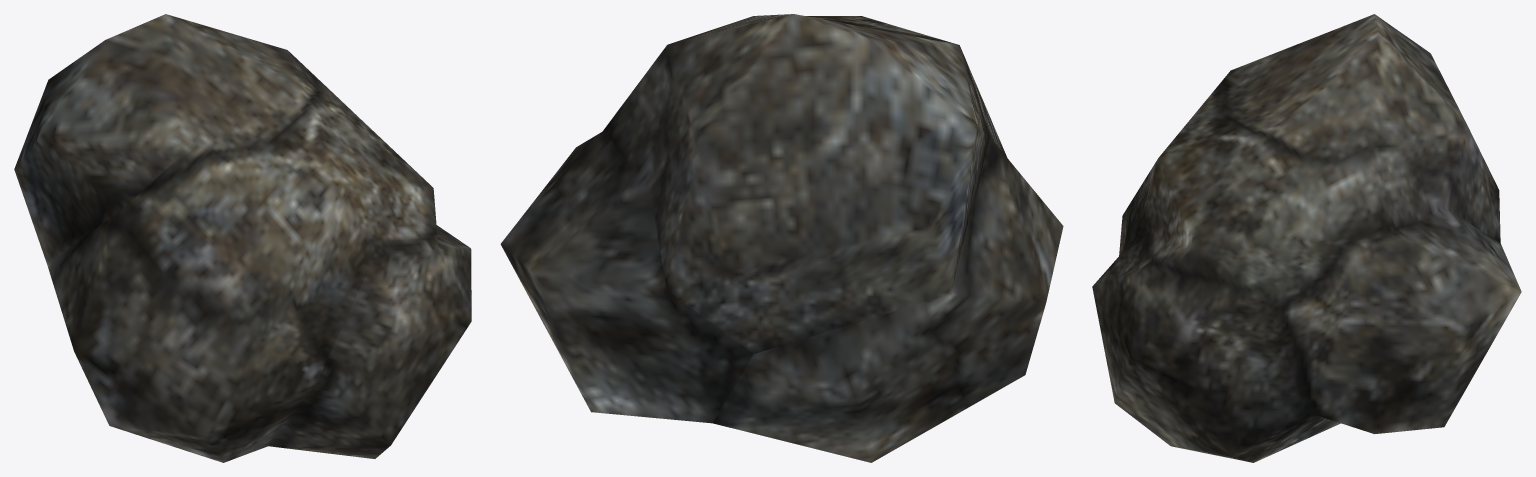
File: Rock4A_LOD1.fbx
3 views of the same model, side by side, from view 1: azimuth 30°, elevation 25°; view 2: azimuth 150°, elevation 25°; view 3: azimuth 270°, elevation 25° (orthographic). The views are drawn at different scales.
Visible parts, largest first — view 1: polySurface10; view 2: polySurface10; view 3: polySurface10.
Part boxes in pixels (<box>): polySurface10: <box>14,14,471,462</box>; polySurface10: <box>500,14,1063,462</box>; polySurface10: <box>1092,14,1521,462</box>.
Bounding box in the file's own units: 8.17 × 8.49 × 9.02.
